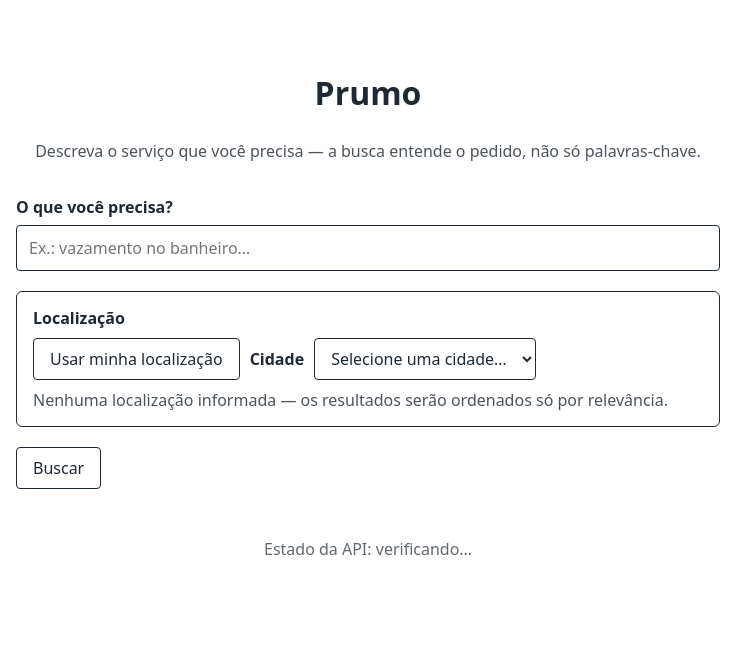
Test: App — tela de busca › 422 com exampleQueries VAZIA (artefato de vetores ainda não existe) não quebra a tela
Type "meu portão não abre" into the field labelled "O que você precisa?" at (368, 248), box [16,225,720,271]
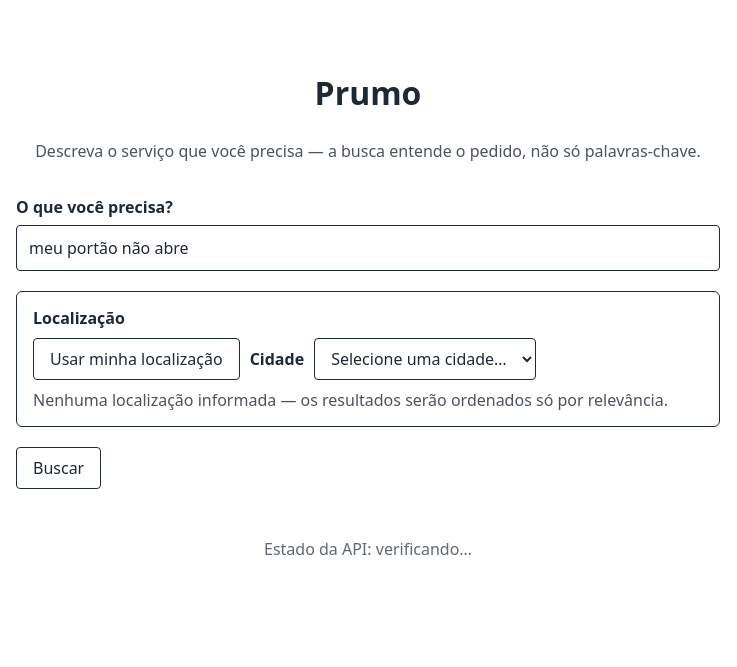
Click the button "Buscar" at (59, 468), box [16,447,101,489]
(page scrolled)
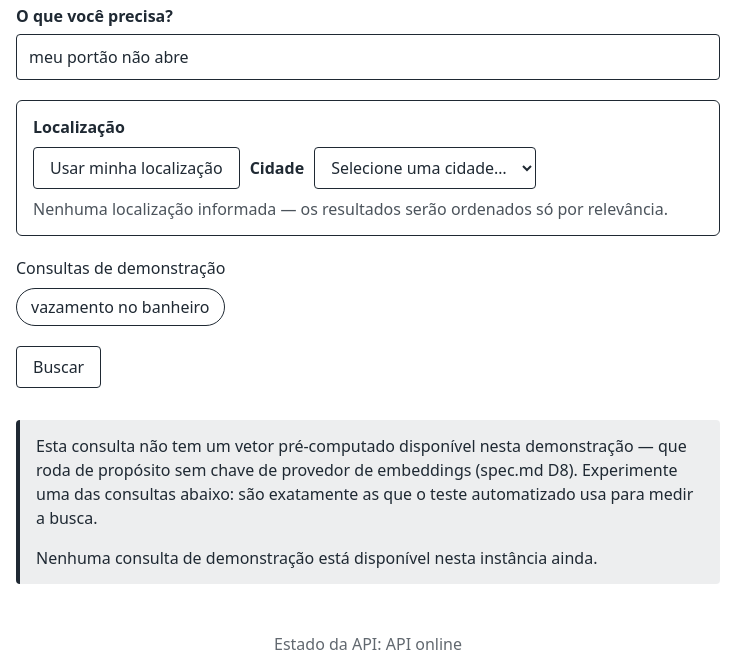
Check: the text "Nenhuma consulta de demonstração está disponível nesta instância ainda." is shown, box [36,547,598,569]
